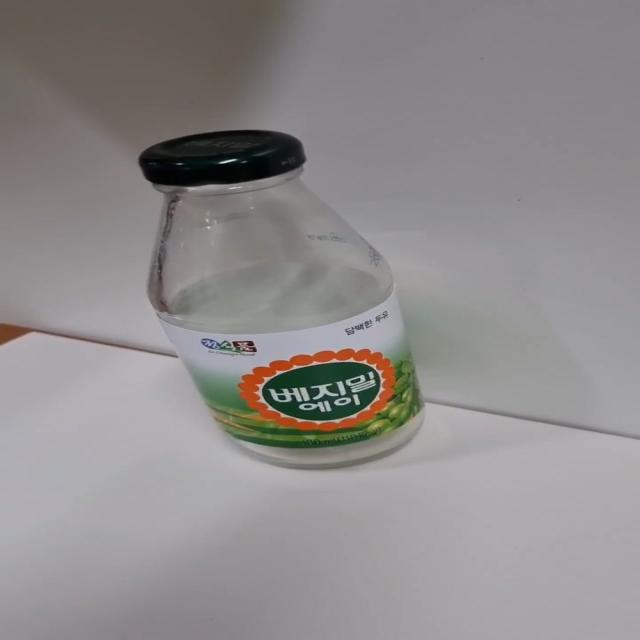Glass: (137, 130, 425, 472)
